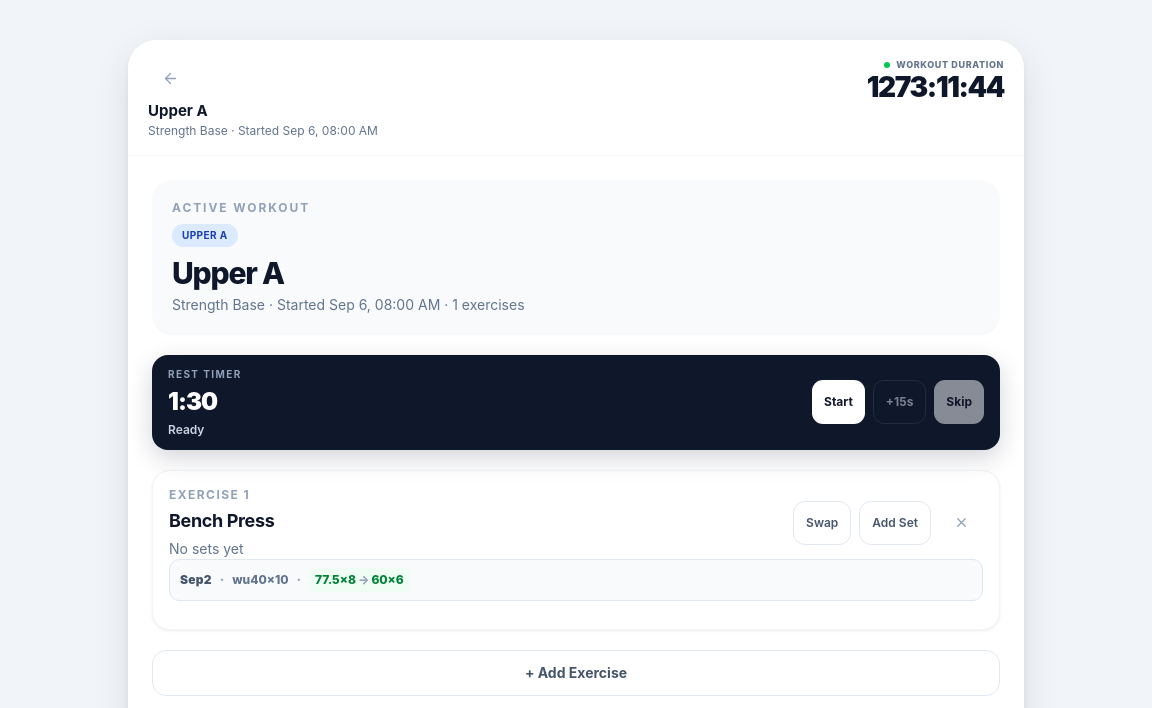
Test: WorkoutPage regression coverage › transitions idle, running, expired, restart, extension, and skip states
Click the button "Start": (838, 402) top-left (812, 380), bottom-right (865, 424)
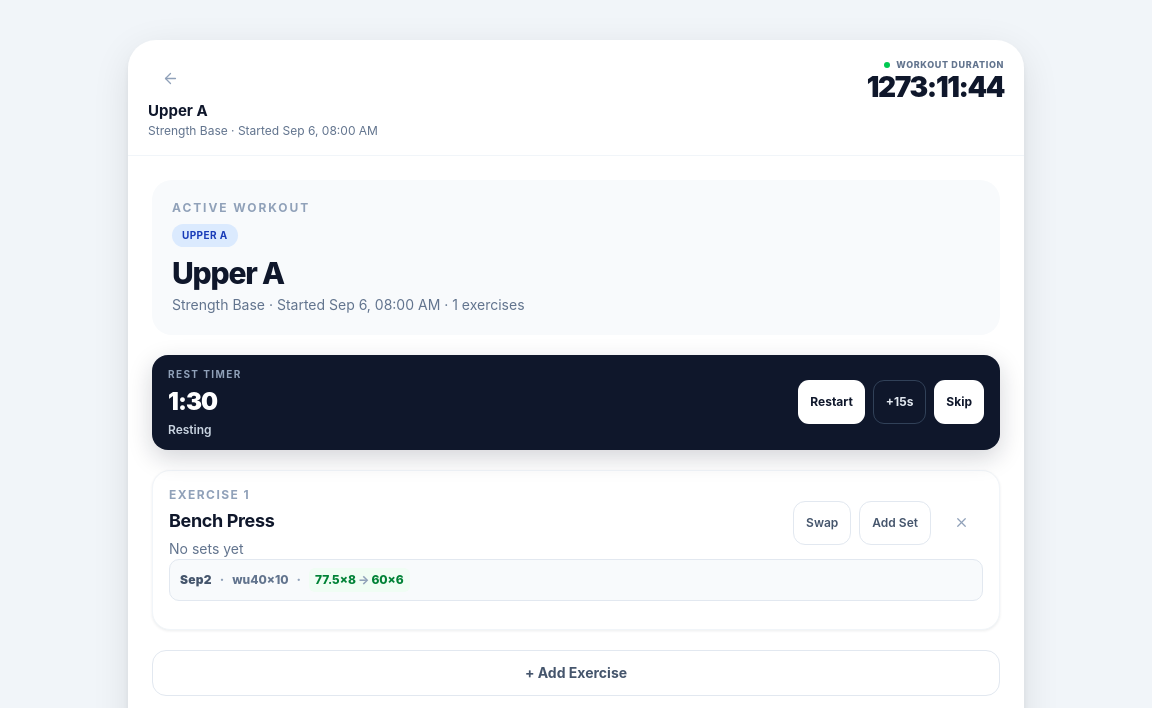
Check: the text "Resting" is shown, box top-left (168, 422), bottom-right (212, 436)
Check: the button "Restart" is shown, box top-left (798, 380), bottom-right (865, 424)
Check: the button "+15s" is enabled, box top-left (873, 380), bottom-right (926, 424)
Click the button "Skip": (959, 402) top-left (934, 380), bottom-right (984, 424)
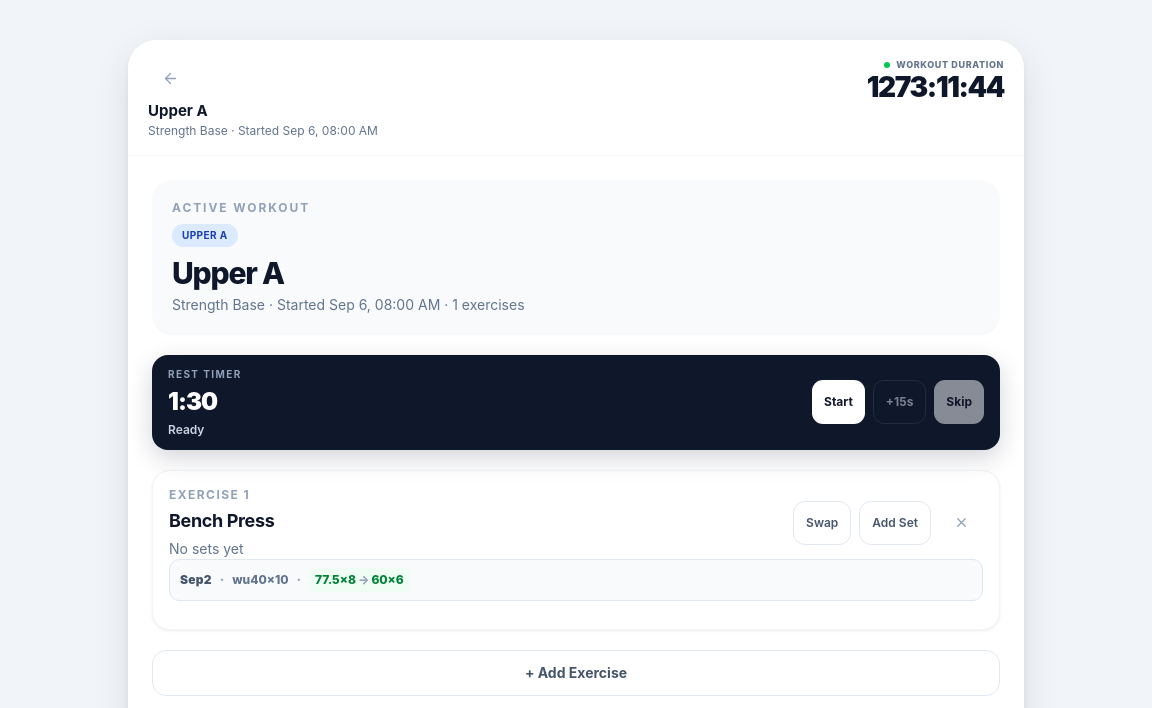
Check: the button "Start" is shown, box top-left (812, 380), bottom-right (865, 424)
Check: the text "Ready" is shown, box top-left (168, 422), bottom-right (204, 436)
